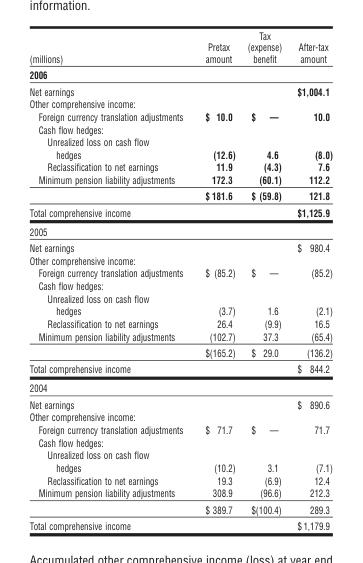table: (28, 29, 331, 531)
table column: (28, 29, 193, 531), (240, 29, 288, 531), (193, 29, 240, 531), (288, 29, 331, 531)
table column header: (28, 29, 331, 66)
table projected row header: (28, 221, 331, 239), (28, 378, 331, 395), (28, 66, 331, 82), (28, 122, 331, 135), (28, 253, 331, 266), (28, 410, 331, 423), (28, 435, 331, 448), (28, 97, 331, 109), (28, 279, 331, 291)
table row: (28, 29, 331, 66), (28, 135, 331, 160), (28, 291, 331, 316), (28, 448, 331, 473), (28, 203, 331, 221), (28, 221, 331, 239), (28, 360, 331, 378), (28, 378, 331, 395), (28, 500, 331, 517), (28, 66, 331, 82), (28, 187, 331, 203), (28, 344, 331, 360), (28, 82, 331, 97), (28, 329, 331, 344), (28, 395, 331, 410), (28, 173, 331, 187), (28, 239, 331, 253), (28, 486, 331, 500), (28, 517, 331, 531), (28, 109, 331, 122), (28, 122, 331, 135), (28, 160, 331, 173), (28, 253, 331, 266), (28, 266, 331, 279), (28, 316, 331, 329), (28, 410, 331, 423), (28, 435, 331, 448), (28, 473, 331, 486), (28, 97, 331, 109), (28, 279, 331, 291), (28, 423, 331, 435)
